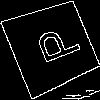P: (26, 21, 82, 70)
